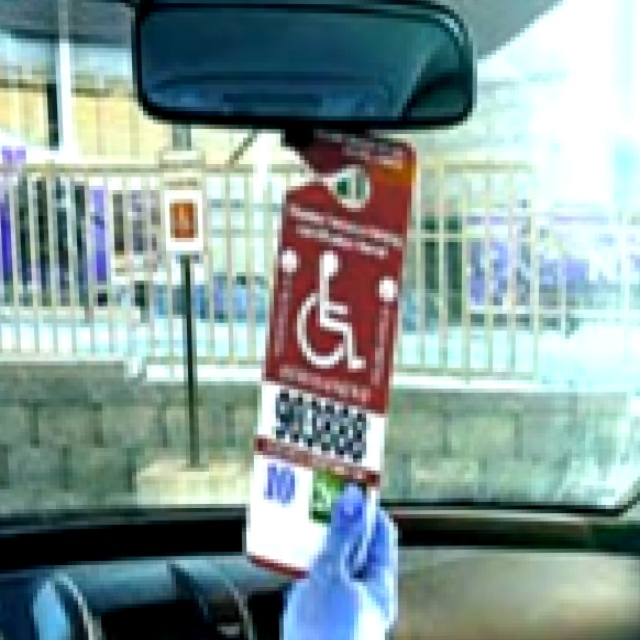ISA: (293, 245, 368, 374), (168, 203, 195, 241)
